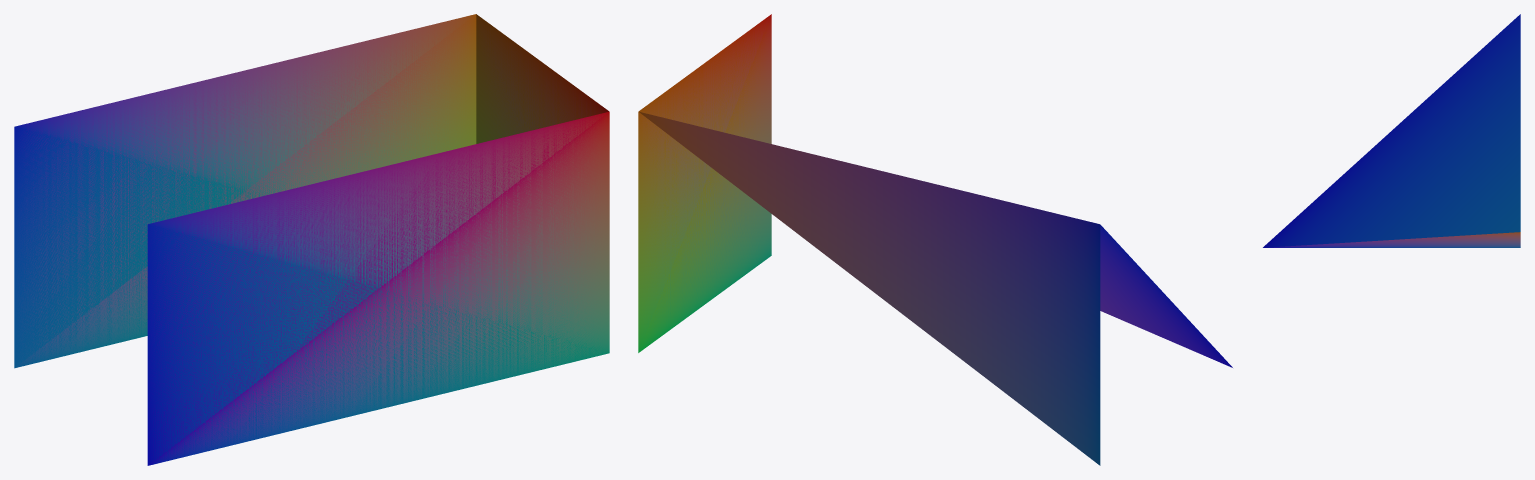
File: test_beam.glb
3 views of the same model, side by side, from view 1: azimuth 30°, elevation 25°; view 2: azimuth 150°, elevation 25°; view 3: azimuth 270°, elevation 25° (orthographic). The views are drawn at different scales.
Size of the model in its own units: 10 by 5 by 5.
